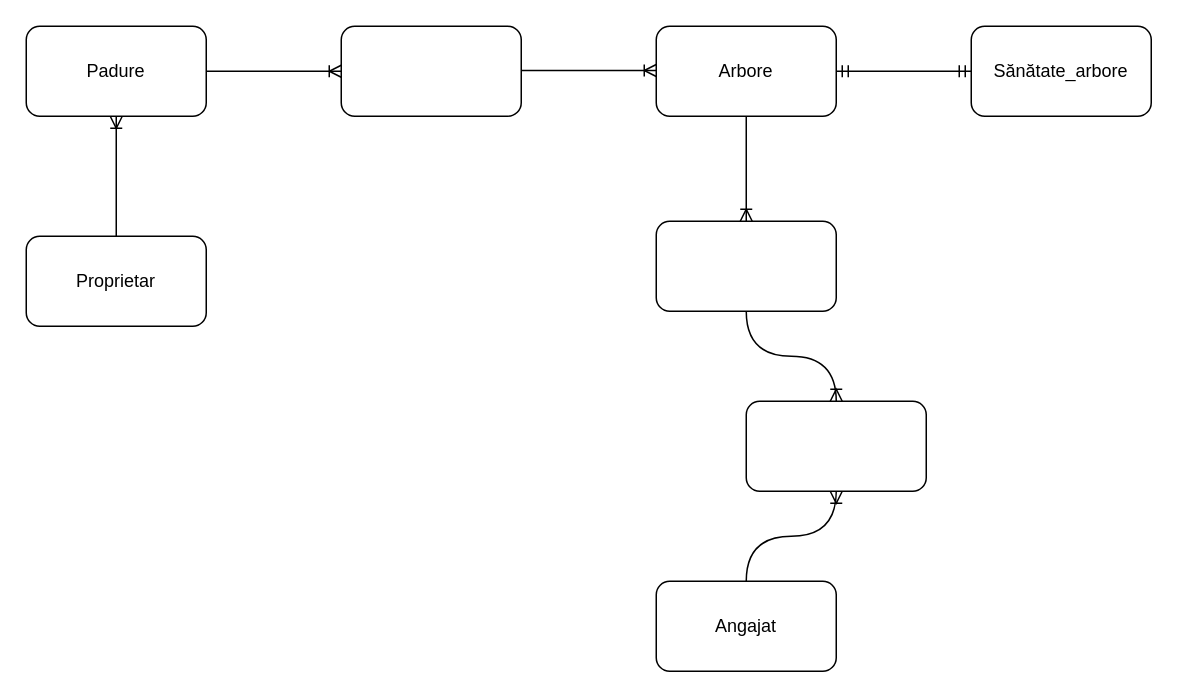
The diagram is 1178 pixels wide and 698 high, and some of its shapes have lost their labels. Each missing label, with the centre of its shape:
Angajat_intervenție: point (835, 445)
Intervenție_Silvica: point (745, 265)
Parcelă: point (430, 70)
